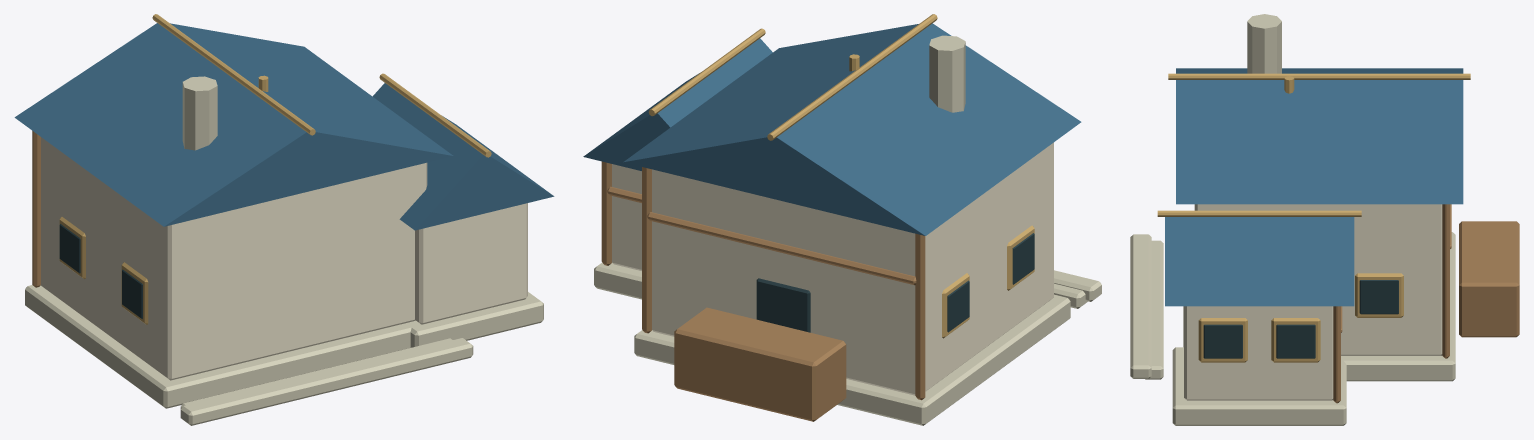
File: level_16.glb
3 views of the same model, side by side, from view 1: azimuth 30°, elevation 25°; view 2: azimuth 150°, elevation 25°; view 3: azimuth 270°, elevation 25° (orthographic). The views are drawn at different scales.
Parts seen in each view (by area): view 1: workshop — level 16; view 2: workshop — level 16; view 3: workshop — level 16.
Part boxes in pixels (x1,y1,x2,y2): workshop — level 16: [14, 14, 554, 425]; workshop — level 16: [583, 14, 1101, 425]; workshop — level 16: [1130, 14, 1519, 425].
Size of the model in its own units: 5.65 by 3.88 by 5.14.
